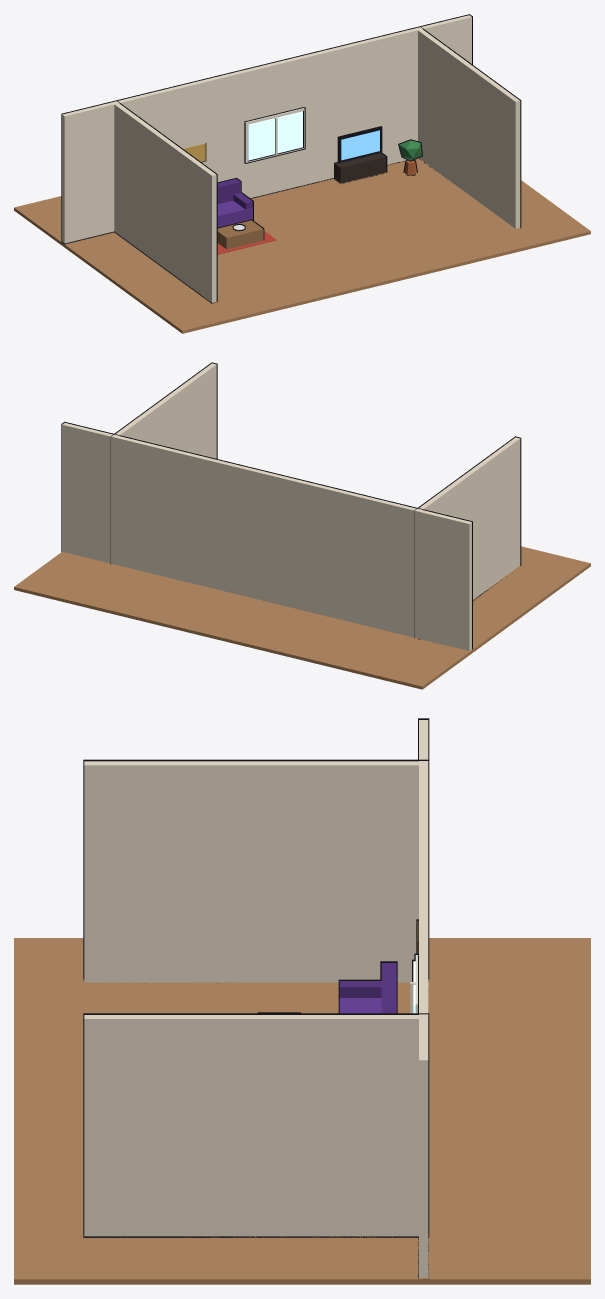
Rendered from cut-home.glb.
The picture shows the model from 3 angles, top to bottom: view 1: azimuth 30°, elevation 25°; view 2: azimuth 150°, elevation 25°; view 3: azimuth 270°, elevation 25°; orthographic projection. The views are drawn at different scales.
Parts seen in each view (by area): view 1: Cube.017, Cube.018, Cube.019, Cube.020, Cube.030, Cube.026, Cube.025, Cube.028, Cube.021, Cube.029, Cube.022, Icosphere.001; view 2: Cube.018, Cube.017, Cube.019, Cube.020; view 3: Cube.017, Cube.020, Cube.019, Cube.018, Cube.022, Cube.023.
Part boxes in pixels (left/top/right/bottom): Cube.017: left=14, top=158, right=590, bottom=333; Cube.018: left=61, top=14, right=472, bottom=244; Cube.019: left=114, top=100, right=217, bottom=303; Cube.020: left=418, top=26, right=521, bottom=228; Cube.030: left=248, top=111, right=303, bottom=161; Cube.026: left=334, top=153, right=387, bottom=184; Cube.025: left=217, top=219, right=264, bottom=249; Cube.028: left=340, top=129, right=380, bottom=161; Cube.021: left=217, top=200, right=252, bottom=227; Cube.029: left=244, top=107, right=305, bottom=163; Cube.022: left=217, top=177, right=241, bottom=204; Icosphere.001: left=398, top=139, right=422, bottom=161; Cube.018: left=61, top=421, right=472, bottom=650; Cube.017: left=14, top=546, right=590, bottom=689; Cube.019: left=414, top=436, right=521, bottom=639; Cube.020: left=110, top=362, right=217, bottom=564; Cube.017: left=14, top=938, right=590, bottom=1284; Cube.020: left=83, top=1013, right=429, bottom=1237; Cube.019: left=83, top=759, right=429, bottom=982; Cube.018: left=418, top=718, right=429, bottom=1279; Cube.022: left=380, top=961, right=397, bottom=1013; Cube.023: left=338, top=979, right=381, bottom=997.
Bounding box in the file's own units: 14 × 4.3 × 10.
